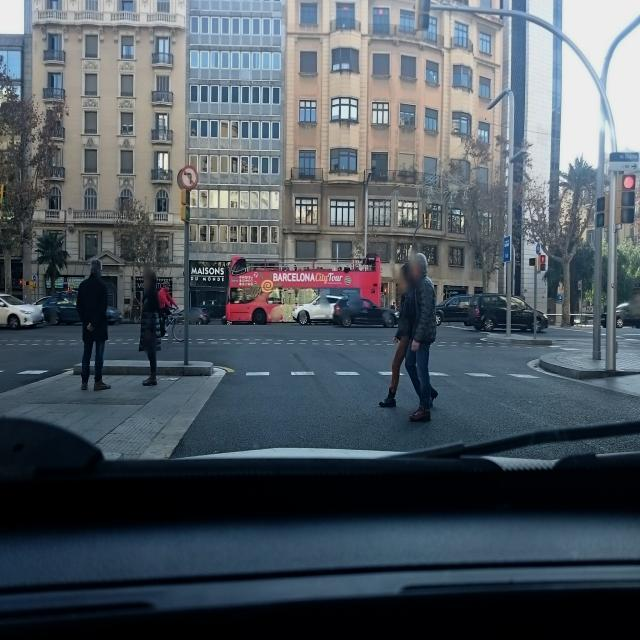car: (464, 292, 548, 333), (333, 298, 397, 327), (0, 292, 45, 330), (292, 296, 346, 324), (434, 296, 472, 324), (40, 300, 80, 325), (175, 306, 210, 324), (105, 307, 124, 324)
